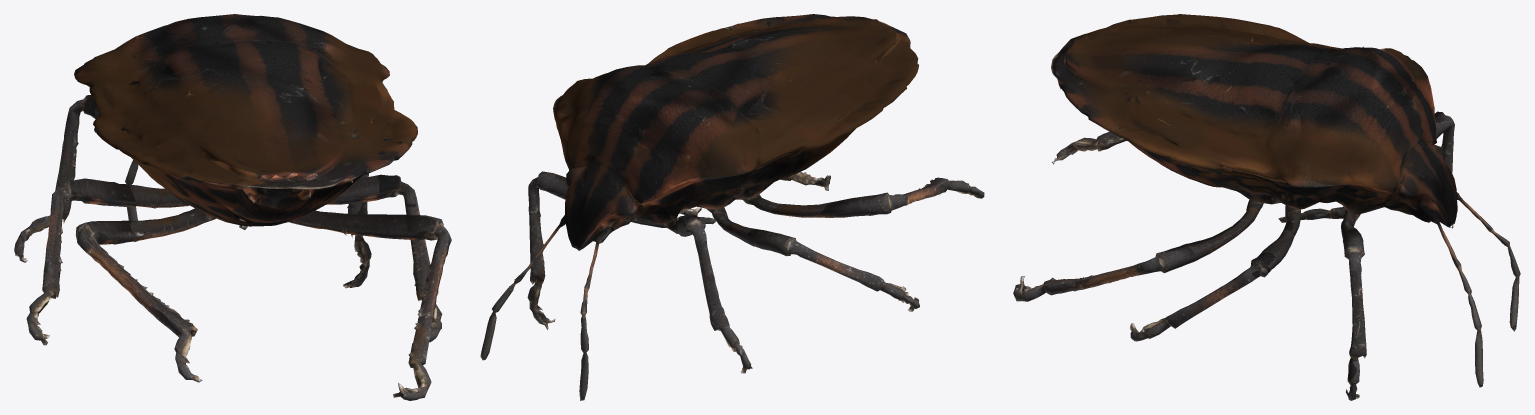
The model's file is Kutu Bungkuk 1.fbx.
The picture shows the model from 3 angles, left to right: view 1: azimuth 30°, elevation 25°; view 2: azimuth 150°, elevation 25°; view 3: azimuth 270°, elevation 25°; orthographic projection. The views are drawn at different scales.
Visible parts, largest first — view 1: Graphosoma; view 2: Graphosoma; view 3: Graphosoma.
Part boxes in pixels (x1=…): Graphosoma: x1=14, y1=14, x2=451, y2=400; Graphosoma: x1=480, y1=14, x2=984, y2=400; Graphosoma: x1=1013, y1=14, x2=1520, y2=400.
Bounding box in the file's own units: 9.23 × 6.95 × 11.48.
